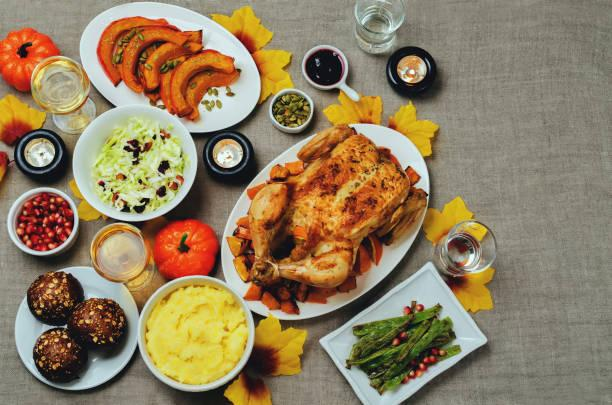Braised Crucian Carp: (220, 123, 425, 320), (78, 1, 258, 134), (13, 265, 139, 390)
